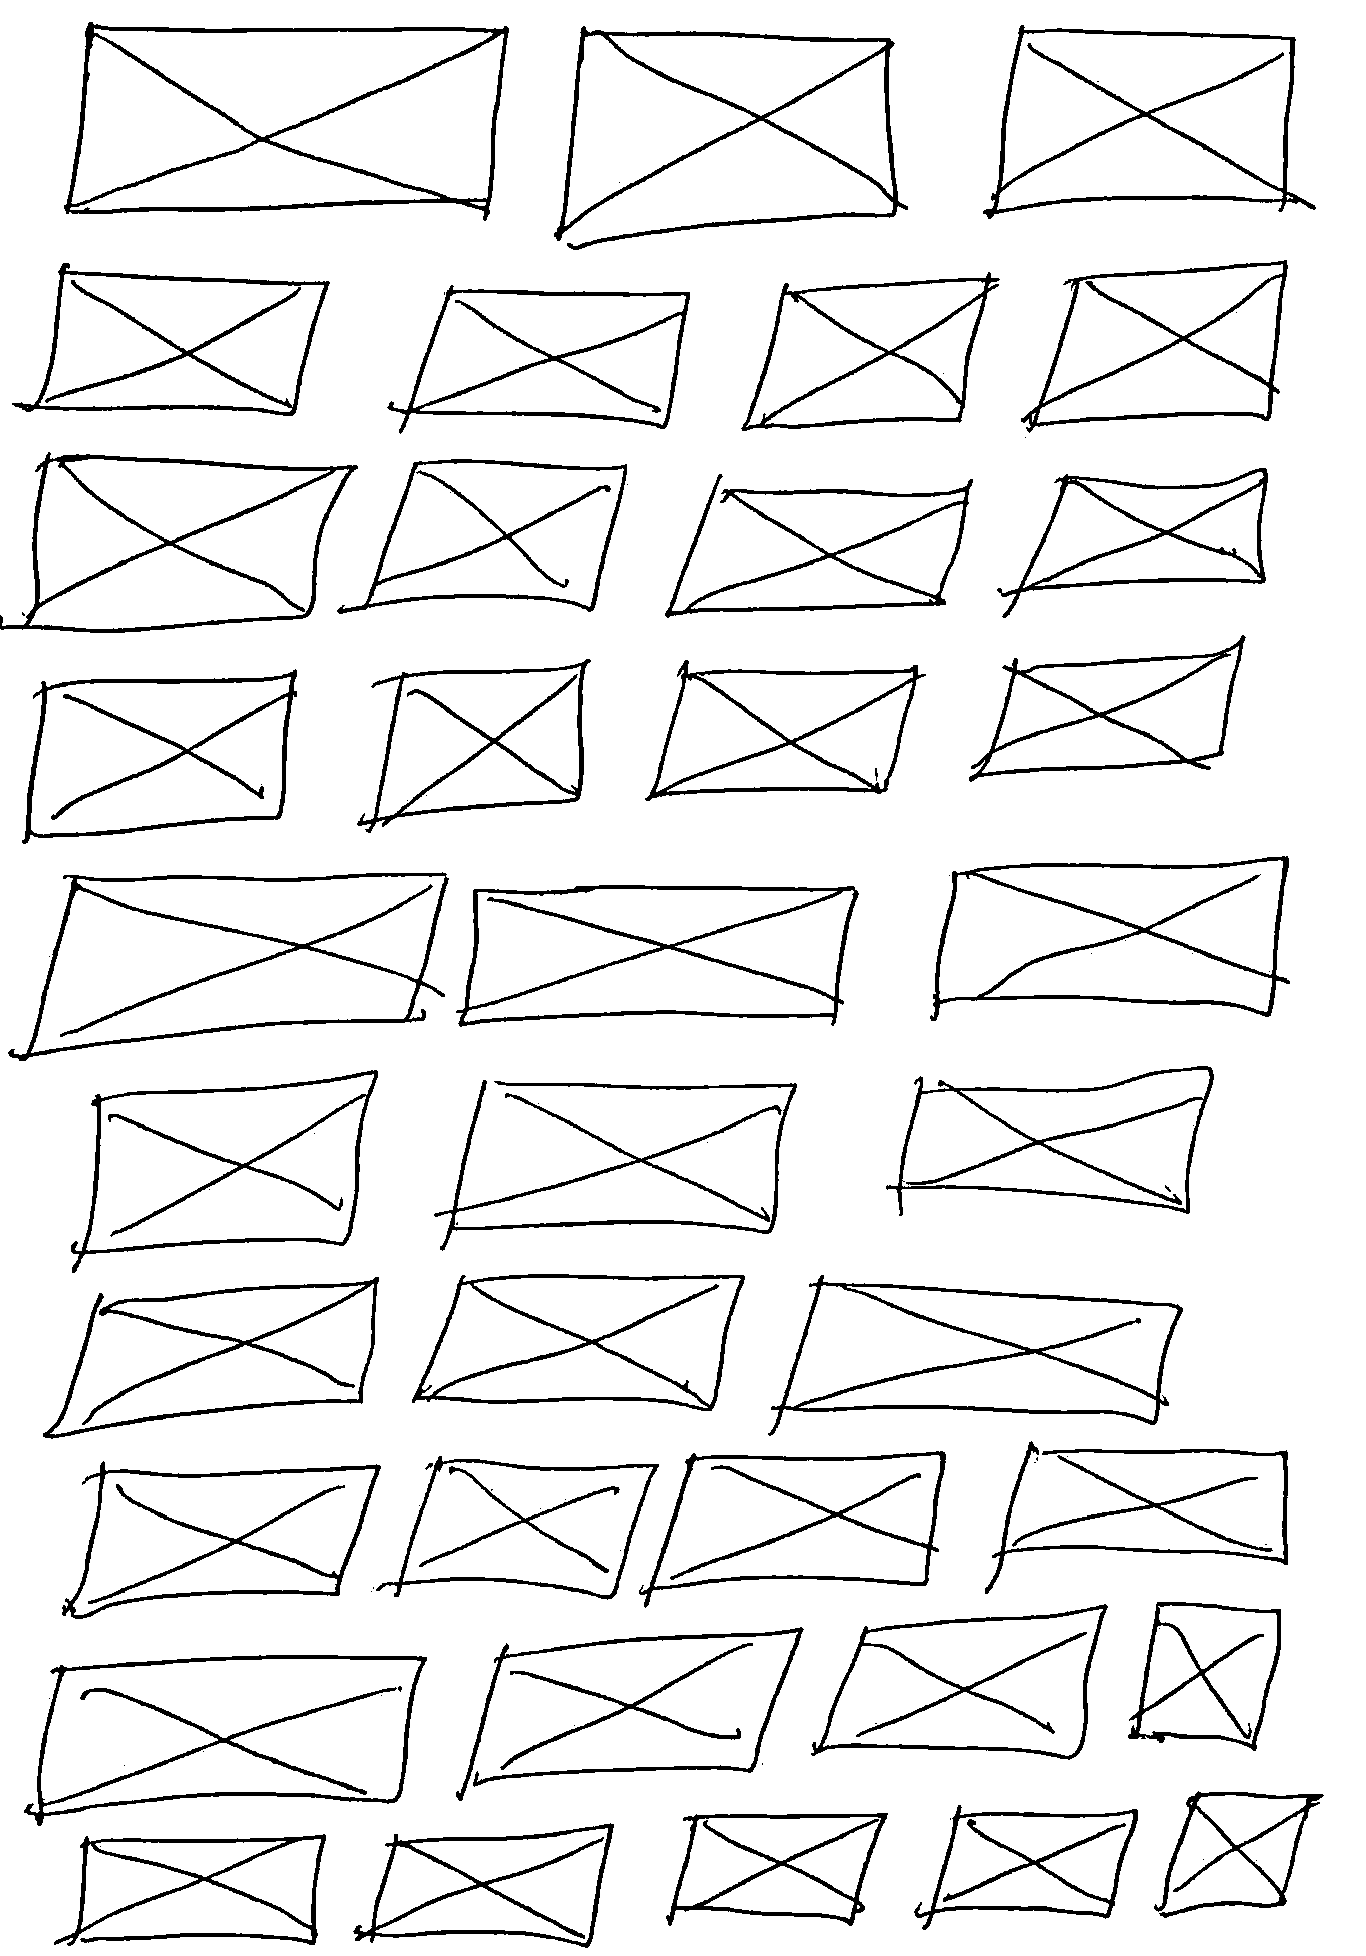Image: (56, 16, 517, 221), (12, 864, 450, 1063), (551, 19, 904, 251), (33, 1647, 427, 1819), (12, 450, 360, 632), (987, 25, 1302, 217), (453, 884, 861, 1032), (456, 1622, 803, 1791), (926, 858, 1292, 1017), (774, 1280, 1182, 1422), (74, 1072, 379, 1262), (441, 1079, 806, 1237), (37, 1277, 382, 1439), (56, 1457, 381, 1622), (886, 1064, 1222, 1216), (409, 1263, 748, 1412), (22, 667, 299, 841), (809, 1601, 1110, 1757), (24, 266, 328, 419), (1021, 262, 1292, 430), (658, 479, 972, 621), (647, 1446, 951, 1590), (366, 456, 629, 621), (737, 272, 996, 434), (969, 636, 1246, 786), (407, 287, 691, 427), (357, 661, 589, 832), (642, 661, 922, 801), (386, 1454, 657, 1593), (994, 1442, 1296, 1567), (1009, 470, 1281, 603), (352, 1821, 614, 1952), (62, 1833, 331, 1949), (669, 1809, 887, 1922), (1127, 1599, 1284, 1746), (928, 1810, 1139, 1917), (1153, 1790, 1326, 1917)
